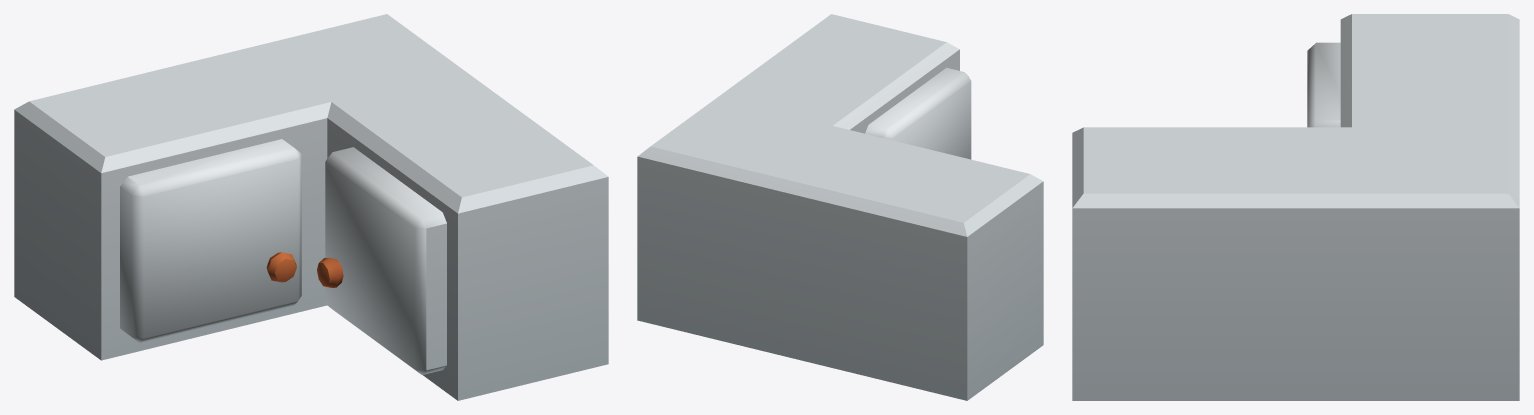
File: Kitchen Cabinet Corner-Pieyzl60FA.glb
3 views of the same model, side by side, from view 1: azimuth 30°, elevation 25°; view 2: azimuth 150°, elevation 25°; view 3: azimuth 270°, elevation 25° (orthographic). The views are drawn at different scales.
Parts seen in each view (by area): view 1: kitchencabinet_corner_half; view 2: kitchencabinet_corner_half; view 3: kitchencabinet_corner_half.
Boxes of the visible parts, x1=… form: kitchencabinet_corner_half: x1=14, y1=14, x2=608, y2=400; kitchencabinet_corner_half: x1=637, y1=14, x2=1043, y2=400; kitchencabinet_corner_half: x1=1072, y1=14, x2=1519, y2=400.
Size of the model in its own units: 2 by 1 by 2.
Materials: 1 (1 with a texture image).
